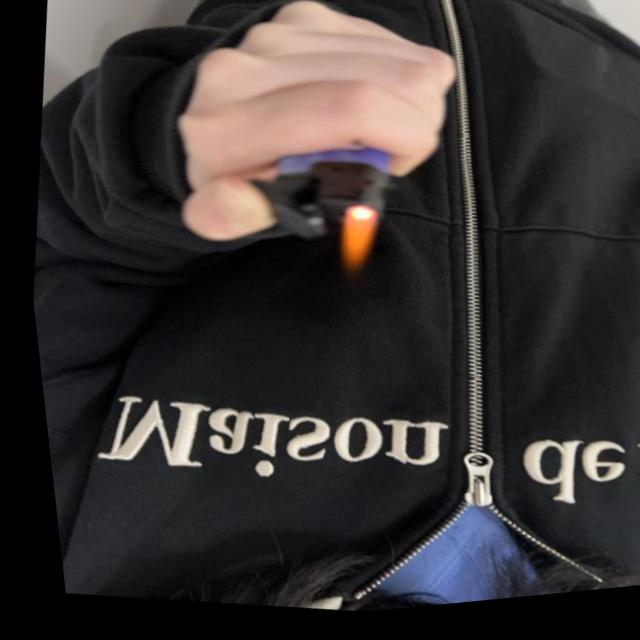Fire: (325, 206, 379, 286)
